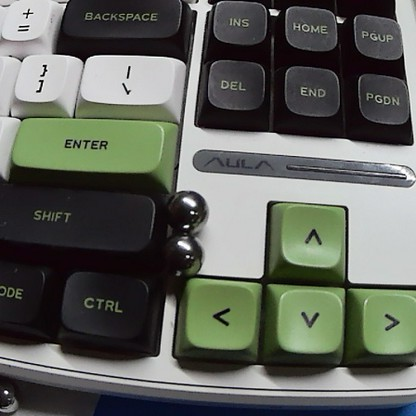ironball: (149, 229, 202, 283), (158, 187, 213, 230), (0, 383, 28, 414)
